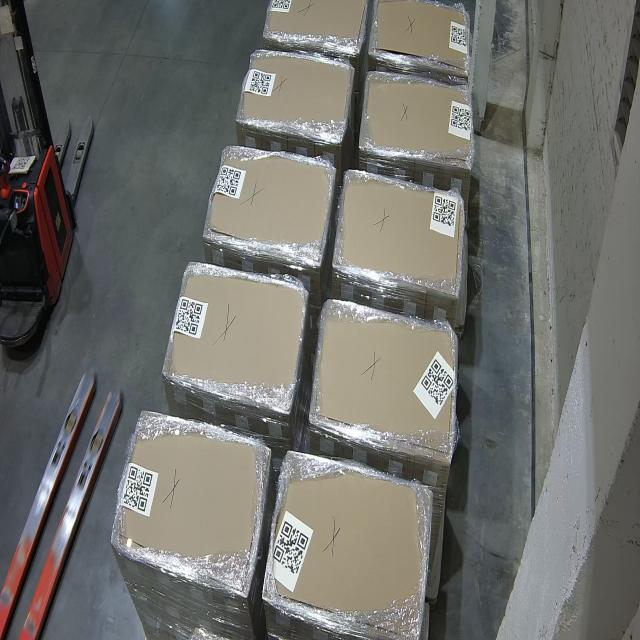pallet: (260, 451, 439, 640), (110, 415, 270, 598), (313, 300, 457, 458), (160, 262, 306, 415), (330, 168, 466, 300), (202, 142, 335, 267), (360, 68, 472, 165), (238, 49, 356, 137), (370, 0, 470, 74), (262, 0, 368, 52)
